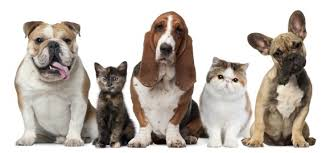cat: (200, 57, 253, 150), (91, 60, 136, 148)
dog: (13, 19, 99, 149), (129, 11, 207, 152), (246, 12, 318, 152)
